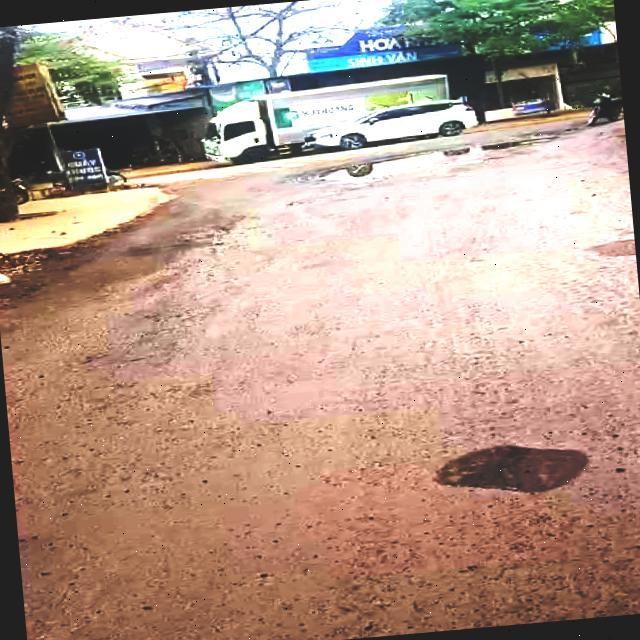pothole: (300, 130, 570, 188)
